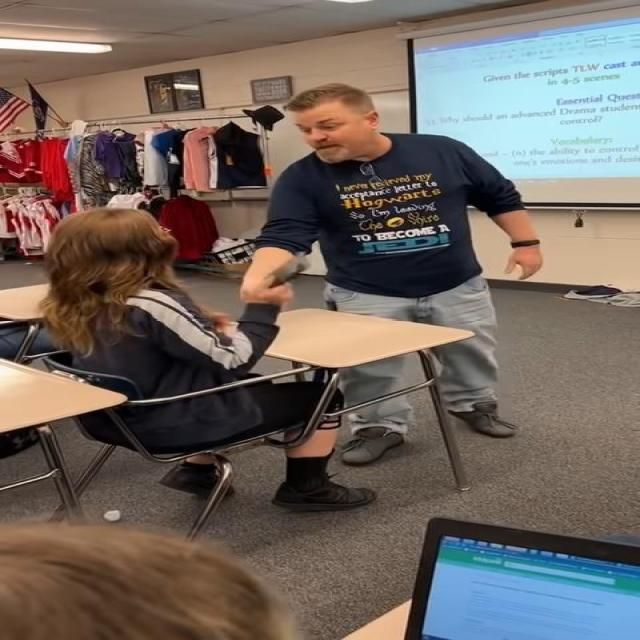NO-Mask: (285, 89, 385, 163)
